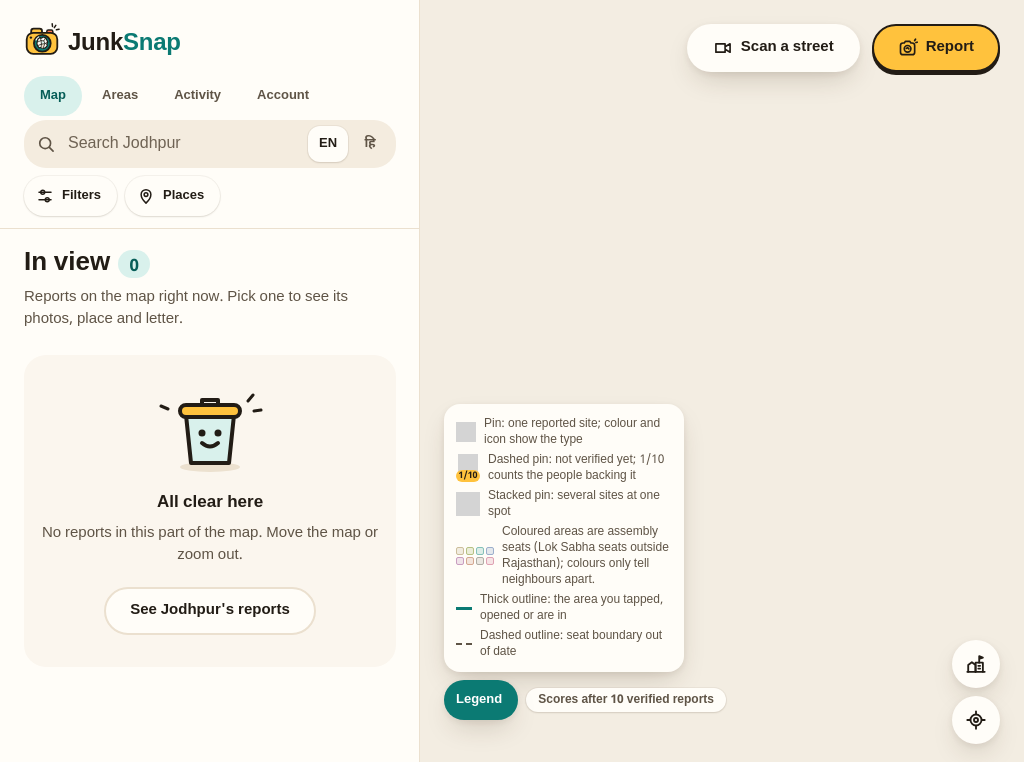
Test: navigation bar › opens Areas without an account and marks it as the current page
Click the button "Areas" at point(120, 96), box top-left (86, 76), bottom-right (154, 116)
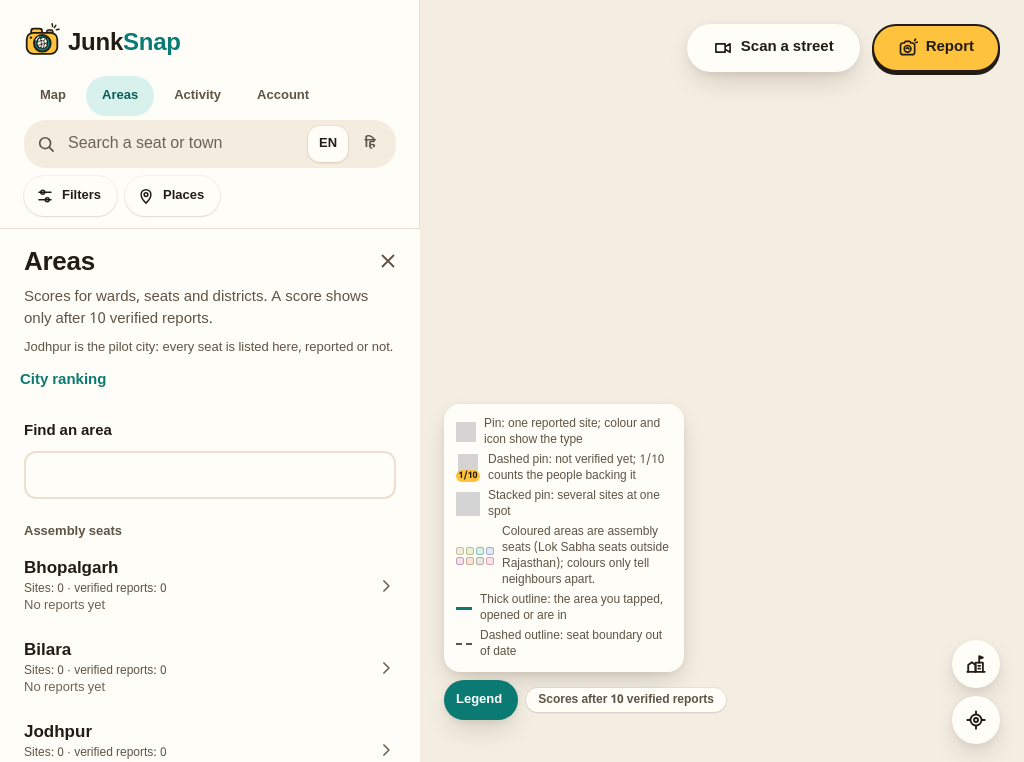
Expected: the heading "Areas" is shown, top-left (24, 247), bottom-right (95, 281)
